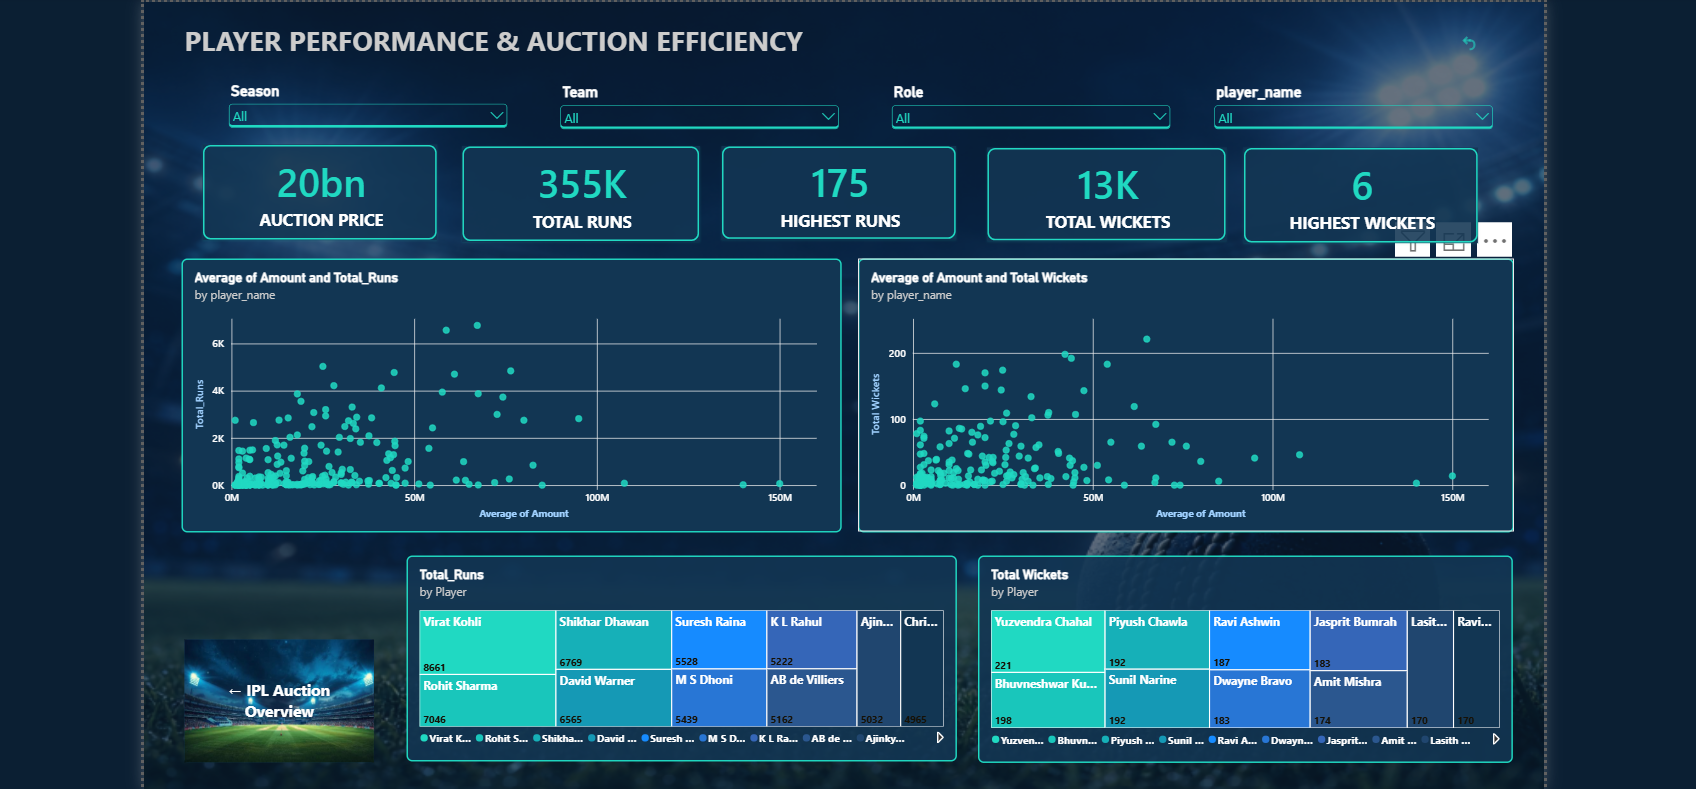

The page's visual inventory and layout, read from the dashboard file:
{"tool":"powerbi","page":{"name":"Performance Analysis","canvas":[1920,1080],"ordinal":2},"visuals":[{"type":"actionButton","box":[175.6,595.6,330,77.5],"z":1000},{"type":"textbox","box":[55.6,26.7,902.2,57.8],"z":2000},{"type":"slicer","fields":{"Values":["DimSeason.Season"]},"box":[111.1,108.9,392.5,87.5],"z":3000},{"type":"slicer","fields":{"Values":["IPLPlayerAuctionData.Team"]},"box":[566.7,111.1,392.5,87.5],"z":4000},{"type":"slicer","fields":{"Values":["DimPlayer.player_name"]},"box":[1464.4,111.1,392.5,87.5],"z":5000},{"type":"slicer","fields":{"Values":["IPLPlayerAuctionData.Role"]},"box":[1020,111.1,392.5,87.5],"z":6000},{"type":"scatterChart","fields":{"Category":["DimPlayer.player_name"],"X":["IPLPlayerAuctionData.Amount"],"Y":["ipl_batting_career_progression.Total_Runs"]},"box":[51.5,351.5,906.1,375.8],"z":7000},{"type":"scatterChart","fields":{"Category":["DimPlayer.player_name"],"X":["Avg(IPLPlayerAuctionData.Amount)"],"Y":["ipl_bowling_career_progression.Total Wickets"]},"box":[980,351.1,900,375.8],"z":8000},{"type":"actionButton","title":"RESET","box":[1777.8,17.8,80,75.6],"z":9000},{"type":"cardVisual","fields":{"Data":["Sum(IPLPlayerAuctionData.Amount)"]},"box":[80,195.6,322.2,131.1],"z":10000},{"type":"cardVisual","fields":{"Data":["ipl_batting_career_progression.Total_Runs"]},"box":[435.6,197.8,326.7,131.1],"z":11000},{"type":"cardVisual","fields":{"Data":["ipl_bowling_career_progression.Total Wickets"]},"box":[1157.8,200,328.9,128.9],"z":12000},{"type":"cardVisual","fields":{"Data":["Max(ipl_batting_career_progression.highest_score)"]},"box":[793.3,197.8,322.2,128.9],"z":13000},{"type":"cardVisual","fields":{"Data":["Max(ipl_bowling_career_progression.best_wickets)"]},"box":[1508.9,200,322.2,131.1],"z":14000},{"type":"actionButton","box":[55.6,875.6,260,168.9],"z":15000},{"type":"treemap","fields":{"Group":["DimPlayer.player_name"],"Values":["DimPlayer.Total_Runs"]},"box":[360.2,759.2,755.4,282.8],"z":15001},{"type":"treemap","fields":{"Group":["DimPlayer.player_name"],"Values":["ipl_bowling_career_progression.Total Wickets"]},"box":[1144.6,759.2,734,284.7],"z":15002}]}

Visuals, with their boxes on the page's 1920x1080 design canvas (x1, y1, x2, y2). These are canvas units, not pixel positions in the 1696x789 screenshot, which may show the page scaled, cropped or inside an application window:
actionButton: detection(176, 596, 506, 673)
textbox: detection(56, 27, 958, 84)
slicer - DimSeason.Season: detection(111, 109, 504, 196)
slicer - IPLPlayerAuctionData.Team: detection(567, 111, 959, 199)
slicer - DimPlayer.player_name: detection(1464, 111, 1857, 199)
slicer - IPLPlayerAuctionData.Role: detection(1020, 111, 1412, 199)
scatterChart - DimPlayer.player_name x IPLPlayerAuctionData.Amount: detection(52, 352, 958, 727)
scatterChart - DimPlayer.player_name x Avg(IPLPlayerAuctionData.Amount): detection(980, 351, 1880, 727)
"RESET" actionButton: detection(1778, 18, 1858, 93)
cardVisual - Sum(IPLPlayerAuctionData.Amount): detection(80, 196, 402, 327)
cardVisual - ipl_batting_career_progression.Total_Runs: detection(436, 198, 762, 329)
cardVisual - ipl_bowling_career_progression.Total Wickets: detection(1158, 200, 1487, 329)
cardVisual - Max(ipl_batting_career_progression.highest_score): detection(793, 198, 1116, 327)
cardVisual - Max(ipl_bowling_career_progression.best_wickets): detection(1509, 200, 1831, 331)
actionButton: detection(56, 876, 316, 1044)
treemap - DimPlayer.player_name x DimPlayer.Total_Runs: detection(360, 759, 1116, 1042)
treemap - DimPlayer.player_name x ipl_bowling_career_progression.Total Wickets: detection(1145, 759, 1879, 1044)
